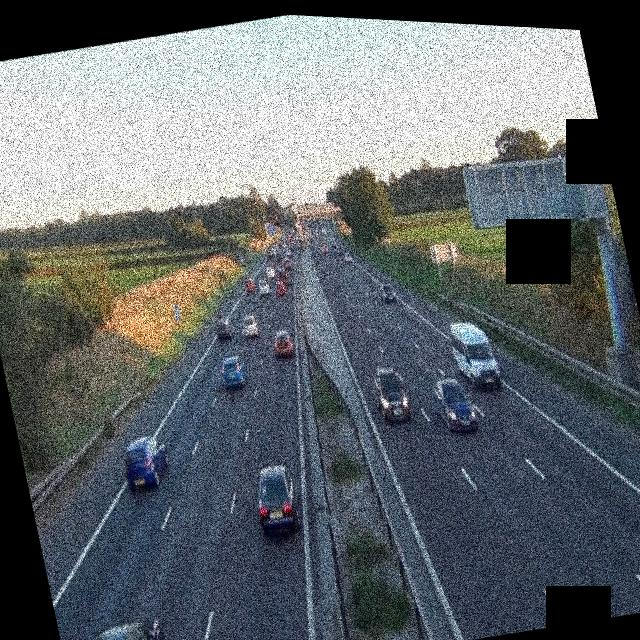car: (250, 460, 305, 538), (118, 431, 172, 494), (59, 611, 174, 640), (430, 372, 479, 437), (370, 364, 412, 425), (217, 351, 250, 391), (271, 328, 295, 359), (240, 313, 260, 339), (214, 317, 234, 341), (378, 281, 396, 304), (254, 278, 270, 296), (272, 278, 287, 296), (264, 262, 276, 279), (244, 277, 257, 292), (281, 259, 292, 274), (343, 250, 353, 263), (284, 247, 294, 260), (264, 248, 273, 262)
